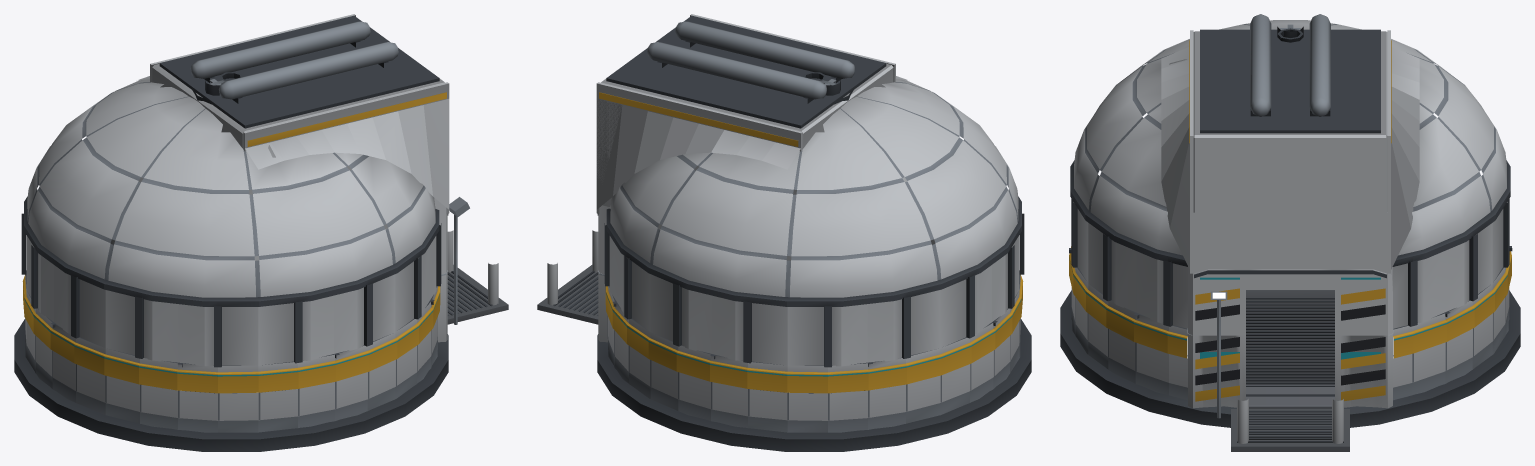
The model's file is airlock_l_far.glb.
3 renders of one model, left to right at view 1: azimuth 30°, elevation 25°; view 2: azimuth 150°, elevation 25°; view 3: azimuth 270°, elevation 25°, orthographic. The views are drawn at different scales.
Visible parts, largest first — view 1: Roof, Base; view 2: Roof, Base; view 3: Roof, Base, Interior.
Part boxes in pixels (x1,y1,x2,y2): Roof: (21, 14, 469, 367); Base: (14, 230, 508, 451); Roof: (596, 14, 1024, 367); Base: (537, 230, 1031, 451); Roof: (1070, 14, 1510, 347); Base: (1060, 246, 1520, 451); Interior: (1246, 290, 1334, 386).
Size of the model in its own units: 8.99 by 5.76 by 7.73.
